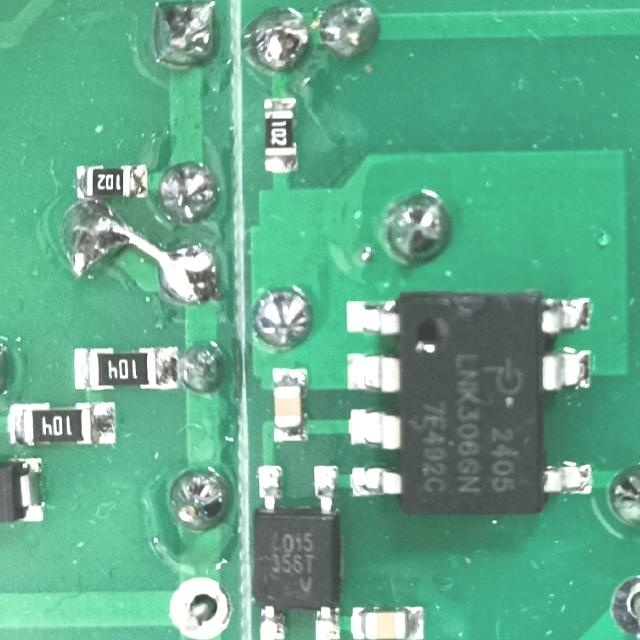chip-capacitor: (270, 366, 310, 445), (349, 603, 426, 640)
chip-resistor: (8, 402, 117, 446), (71, 346, 179, 390), (262, 94, 301, 175), (74, 163, 148, 199)
ic: (341, 293, 594, 522), (251, 462, 341, 640)
